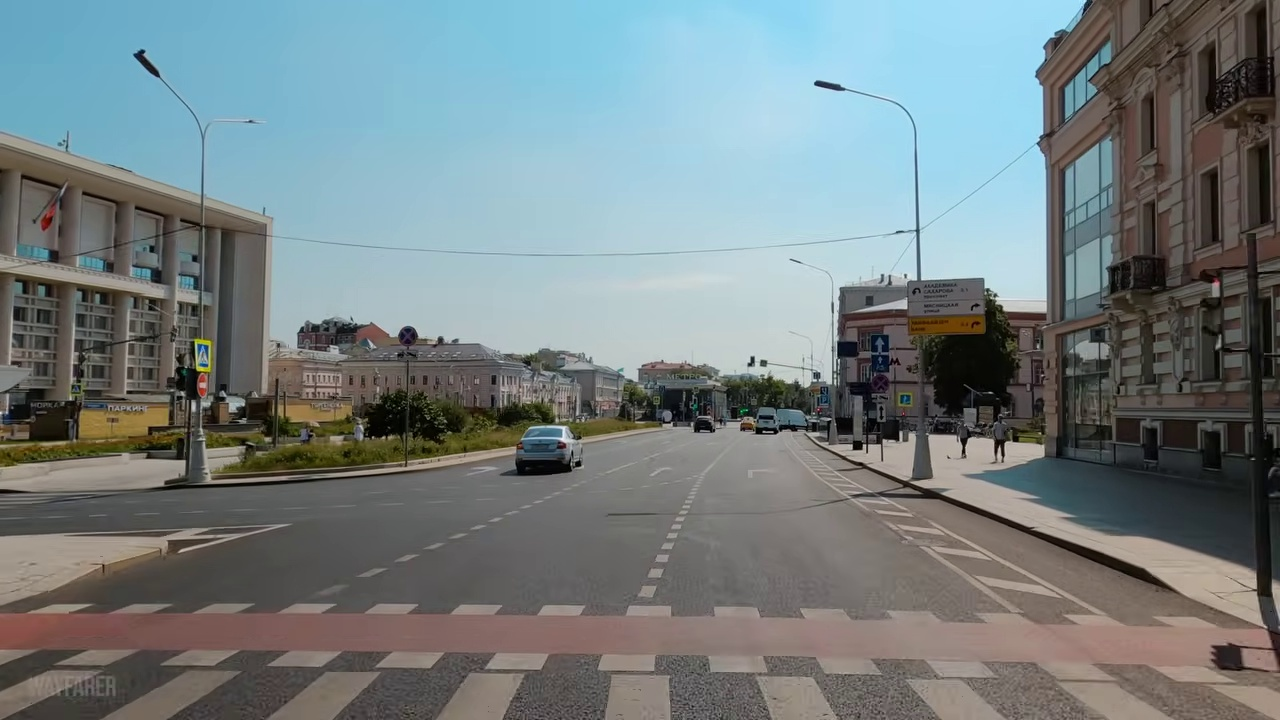apagada: (128, 48, 161, 81), (811, 73, 845, 97), (783, 249, 806, 270), (240, 112, 260, 132)
